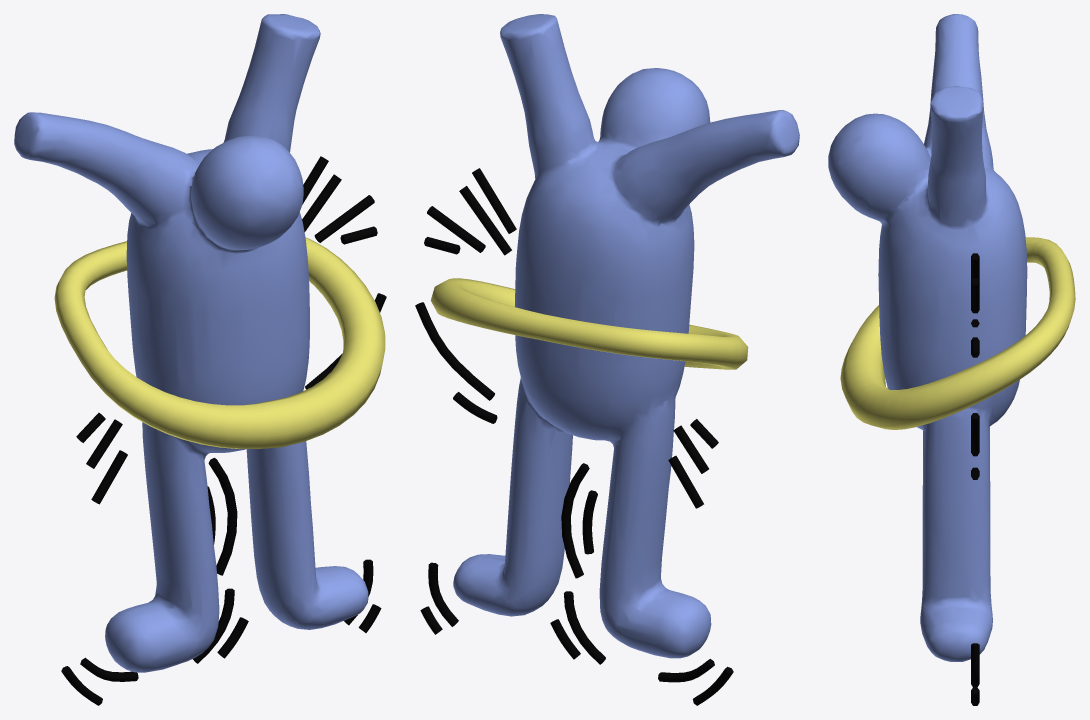
3 renders of one model, left to right at view 1: azimuth 30°, elevation 25°; view 2: azimuth 150°, elevation 25°; view 3: azimuth 270°, elevation 25°, orthographic. The views are drawn at different scales.
Visible parts, largest first — view 1: Cube.022, NurbsCircle, BézierCurve.008; view 2: Cube.022, BézierCurve.008, NurbsCircle; view 3: Cube.022, NurbsCircle, BézierCurve.008.
Boxes of the visible parts, x1,y1,x2,y2 form: Cube.022: [14, 14, 368, 672]; NurbsCircle: [54, 237, 385, 448]; BézierCurve.008: [61, 156, 386, 705]; Cube.022: [453, 14, 799, 658]; BézierCurve.008: [415, 168, 733, 705]; NurbsCircle: [430, 278, 748, 369]; Cube.022: [828, 14, 1027, 661]; NurbsCircle: [840, 237, 1075, 429]; BézierCurve.008: [971, 253, 979, 705].
Bounding box in the file's own units: 0.7116 × 1.18 × 0.4538.
